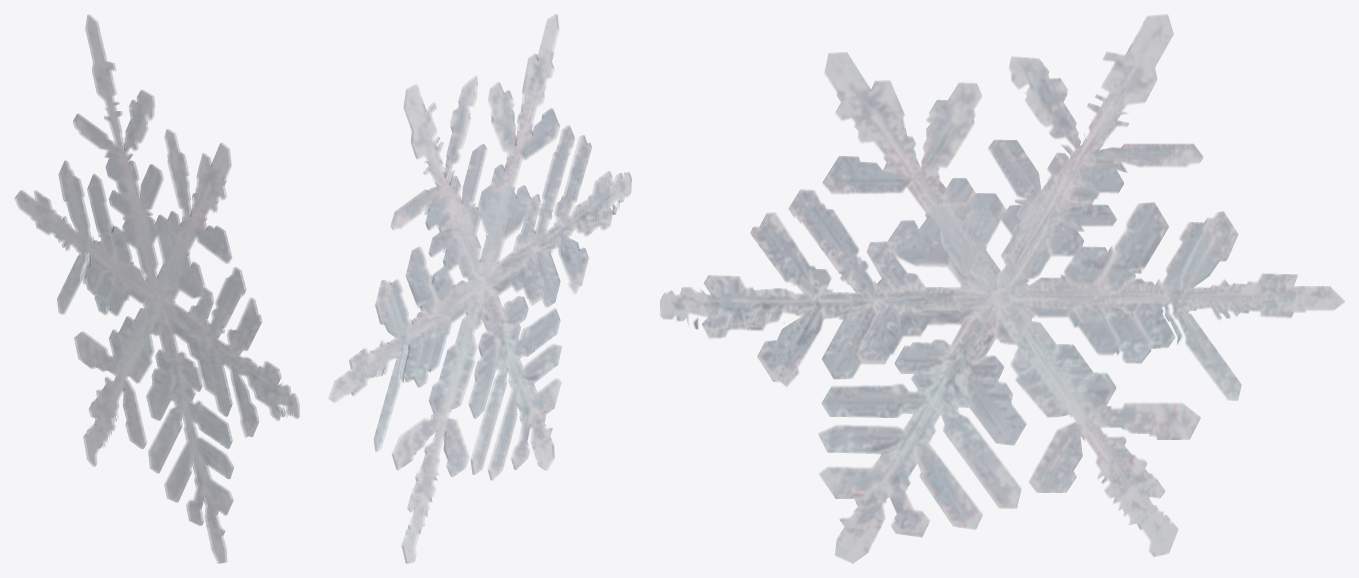
The model's file is real-snowflake.quads.gltf.
3 views of the same model, side by side, from view 1: azimuth 30°, elevation 25°; view 2: azimuth 150°, elevation 25°; view 3: azimuth 270°, elevation 25° (orthographic). The views are drawn at different scales.
Parts seen in each view (by area): view 1: Line005__0; view 2: Line005__0; view 3: Line005__0.
Part boxes in pixels (x1,y1,x2,y2): Line005__0: (14,14,299,563); Line005__0: (328,14,631,563); Line005__0: (660,14,1344,563).
Bounding box in the file's own units: 0.000906 × 0.1822 × 0.2061.
1 material, 1 textured.
